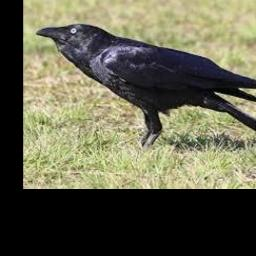Crow: (37, 23, 256, 149)
